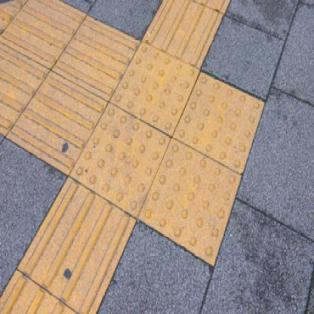Podoctatil: (0, 0, 283, 314)
